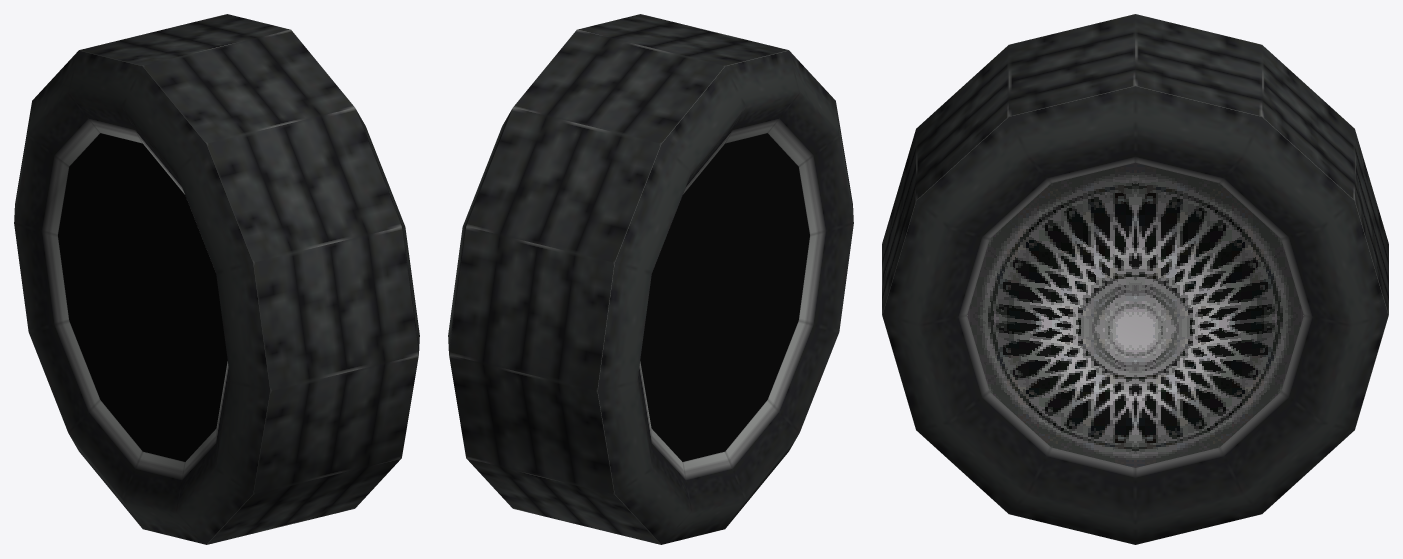
File: DefaultWheel_emperor.glb
3 renders of one model, left to right at view 1: azimuth 30°, elevation 25°; view 2: azimuth 150°, elevation 25°; view 3: azimuth 270°, elevation 25°, orthographic.
Parts seen in each view (by area): view 1: wheel; view 2: wheel; view 3: wheel.
Part boxes in pixels (x1,y1,x2,y2): wheel: (14,14,419,544); wheel: (448,14,853,544); wheel: (882,14,1388,544).
Size of the model in its own units: 0.3466 by 0.7462 by 0.7462.
3 materials, 3 textured.
